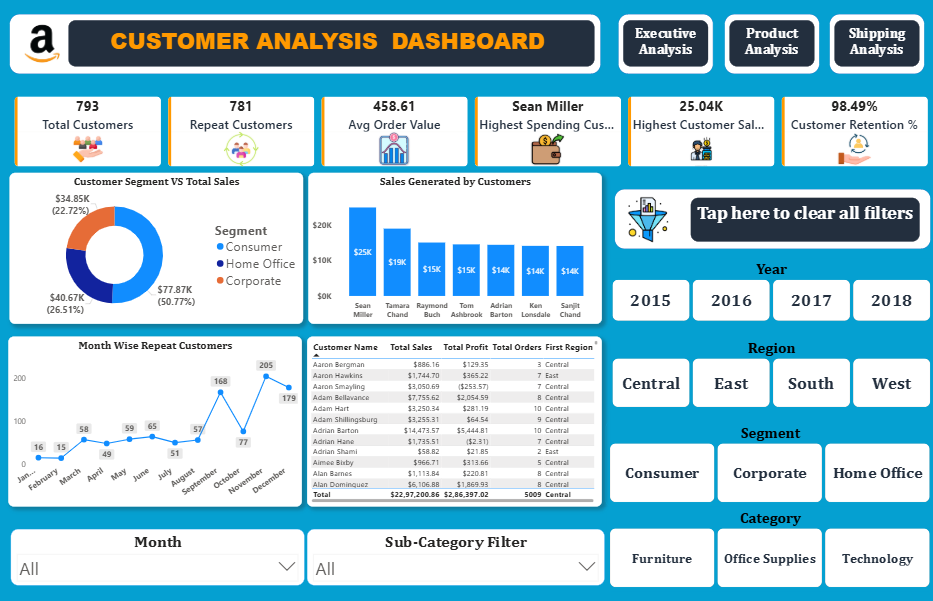

The page's visual inventory and layout, read from the dashboard file:
{"tool":"powerbi","page":{"name":"Customer Analysis","canvas":[2500,1610],"ordinal":2},"visuals":[{"type":"shape","box":[33.3,40,1576.7,160],"z":0},{"type":"cardVisual","fields":{"Data":["Orders.Total Customers","Orders.Repeat Customers","Orders.Avg Order Value","Orders.Highest Spending Customer","Orders.Highest Customer Sales Amt","Orders.Customer Retention %"]},"box":[30,243.3,2470,220],"z":1000},{"type":"donutChart","title":"Customer Segment VS Total Sales","fields":{"Category":["Orders.Segment"],"Y":["Orders.Total Sales"]},"box":[33.3,463.3,783.3,403.3],"z":2000},{"type":"columnChart","title":"Sales Generated by Customers","fields":{"Y":["Orders.Total Sales"],"Category":["Orders.Customer Name"]},"box":[830,463.3,783.3,403.3],"z":3000},{"type":"lineChart","title":"Month Wise Repeat Customers","fields":{"Y":["Orders.Repeat Customers"],"Category":["Custom Calendar.Date.Variation.Date Hierarchy.Month"]},"box":[30,900,783.3,453.3],"z":4000},{"type":"tableEx","title":"Discount VS Profit ","fields":{"Values":["Orders.Customer Name","Orders.Total Sales","Orders.Total Profit","Orders.Total Orders","Min(Orders.Region)"]},"box":[826.7,900,786.7,453.3],"z":5000},{"type":"advancedSlicerVisual","fields":{"Values":["Custom Calendar.Date.Variation.Date Hierarchy.Year"]},"box":[1630,690,870,180],"z":6000},{"type":"advancedSlicerVisual","fields":{"Values":["Orders.Region"]},"box":[1630,900,870,200],"z":7000},{"type":"advancedSlicerVisual","fields":{"Values":["Orders.Category"]},"box":[1623.3,1353.3,876.7,226.7],"z":8000},{"type":"advancedSlicerVisual","fields":{"Values":["Orders.Segment"]},"box":[1623.3,1126.7,876.7,226.7],"z":9000},{"type":"shape","box":[1656.7,40,253.3,160],"z":10000},{"type":"textbox","box":[1670,56.7,226.7,123.3],"z":11000},{"type":"shape","box":[1940,40,253.3,160],"z":12000},{"type":"textbox","box":[1953.3,56.7,226.7,123.3],"z":13000},{"type":"shape","box":[2220,40,253.3,160],"z":14000},{"type":"textbox","box":[2233.3,56.7,226.7,123.3],"z":15000},{"type":"textbox","box":[190,56.7,1403.3,123.3],"z":16000},{"type":"image","box":[50,50,140,140],"z":17000},{"type":"shape","box":[1646.7,506.7,843.3,160],"z":18000},{"type":"image","box":[1656.7,523.3,160,130],"z":19000},{"type":"slicer","title":"Sub-Category Filter ","fields":{"Values":["Orders.Sub-Category"]},"box":[826.7,1413.3,793.3,150],"z":20000},{"type":"slicer","title":"Month","fields":{"Values":["Custom Calendar.Date.Variation.Date Hierarchy.Month"]},"box":[36.7,1413.3,783.3,150],"z":21000},{"type":"actionButton","box":[1850,526.7,610,126.7],"z":22000},{"type":"actionButton","box":[1943.3,40,253.3,160],"z":23000},{"type":"actionButton","box":[2220,40,256.7,160],"z":24000},{"type":"actionButton","box":[1656.7,40,253.3,160],"z":25000},{"type":"textbox","box":[1850,530,610,116.7],"z":26000}]}

Visuals, with their boxes in screenshot pixels (x1, y1, x2, y2), scaled from the page's 2500x1610 canvas onto the 933x601 screenshot:
shape: Rect(12, 15, 601, 75)
cardVisual - Orders.Total Customers x Orders.Repeat Customers: Rect(11, 91, 932, 173)
"Customer Segment VS Total Sales" donutChart: Rect(12, 173, 305, 323)
"Sales Generated by Customers" columnChart: Rect(310, 173, 602, 323)
"Month Wise Repeat Customers" lineChart: Rect(11, 336, 304, 505)
"Discount VS Profit " tableEx: Rect(309, 336, 602, 505)
advancedSlicerVisual - Custom Calendar.Date.Variation.Date Hierarchy.Year: Rect(608, 258, 932, 325)
advancedSlicerVisual - Orders.Region: Rect(608, 336, 932, 411)
advancedSlicerVisual - Orders.Category: Rect(606, 505, 932, 590)
advancedSlicerVisual - Orders.Segment: Rect(606, 421, 932, 505)
shape: Rect(618, 15, 713, 75)
textbox: Rect(623, 21, 708, 67)
shape: Rect(724, 15, 819, 75)
textbox: Rect(729, 21, 814, 67)
shape: Rect(829, 15, 923, 75)
textbox: Rect(833, 21, 918, 67)
textbox: Rect(71, 21, 595, 67)
image: Rect(19, 19, 71, 71)
shape: Rect(615, 189, 929, 249)
image: Rect(618, 195, 678, 244)
"Sub-Category Filter " slicer: Rect(309, 528, 605, 584)
"Month" slicer: Rect(14, 528, 306, 584)
actionButton: Rect(690, 197, 918, 244)
actionButton: Rect(725, 15, 820, 75)
actionButton: Rect(829, 15, 924, 75)
actionButton: Rect(618, 15, 713, 75)
textbox: Rect(690, 198, 918, 241)
